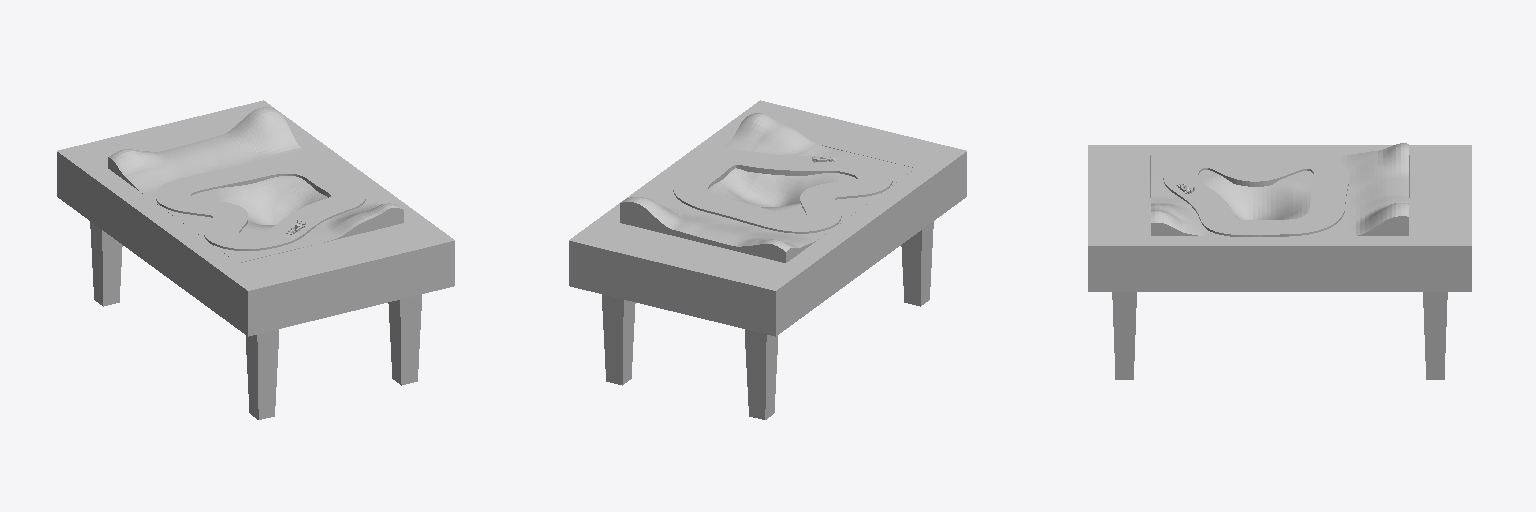
Rendered from NewestTisch50.obj.
3 renders of one model, left to right at view 1: azimuth 30°, elevation 25°; view 2: azimuth 150°, elevation 25°; view 3: azimuth 270°, elevation 25°, orthographic.
Visible parts, largest first — view 1: Tischplatte_wood_table_001, Landschaft_aerial_grass_rock, off, Bein1_wood_table_001, Bein4_wood_table_001.003, Bein3_wood_table_001.002; view 2: Tischplatte_wood_table_001, Landschaft_aerial_grass_rock, off, Bein2_wood_table_001.001, Bein3_wood_table_001.002, Bein4_wood_table_001.003; view 3: Tischplatte_wood_table_001, Landschaft_aerial_grass_rock, off, Bein1_wood_table_001, Bein2_wood_table_001.001.
Boxes of the visible parts, box(x1,y1,x2,y2) form: Tischplatte_wood_table_001: box(57, 100, 454, 336); Landschaft_aerial_grass_rock: box(108, 107, 403, 262); off: box(156, 159, 365, 250); Bein1_wood_table_001: box(388, 294, 421, 385); Bein4_wood_table_001.003: box(246, 329, 278, 419); Bein3_wood_table_001.002: box(90, 221, 122, 306); Tischplatte_wood_table_001: box(569, 100, 966, 336); Landschaft_aerial_grass_rock: box(620, 113, 915, 262); off: box(673, 150, 892, 233); Bein2_wood_table_001.001: box(602, 294, 635, 385); Bein3_wood_table_001.002: box(745, 329, 777, 419); Bein4_wood_table_001.003: box(901, 221, 933, 306); Tischplatte_wood_table_001: box(1088, 145, 1471, 291); Landschaft_aerial_grass_rock: box(1151, 143, 1408, 235); off: box(1163, 153, 1348, 236); Bein1_wood_table_001: box(1112, 292, 1136, 379); Bein2_wood_table_001.001: box(1423, 292, 1447, 379).
Bounding box in the file's own units: 5 × 3.91 × 8.